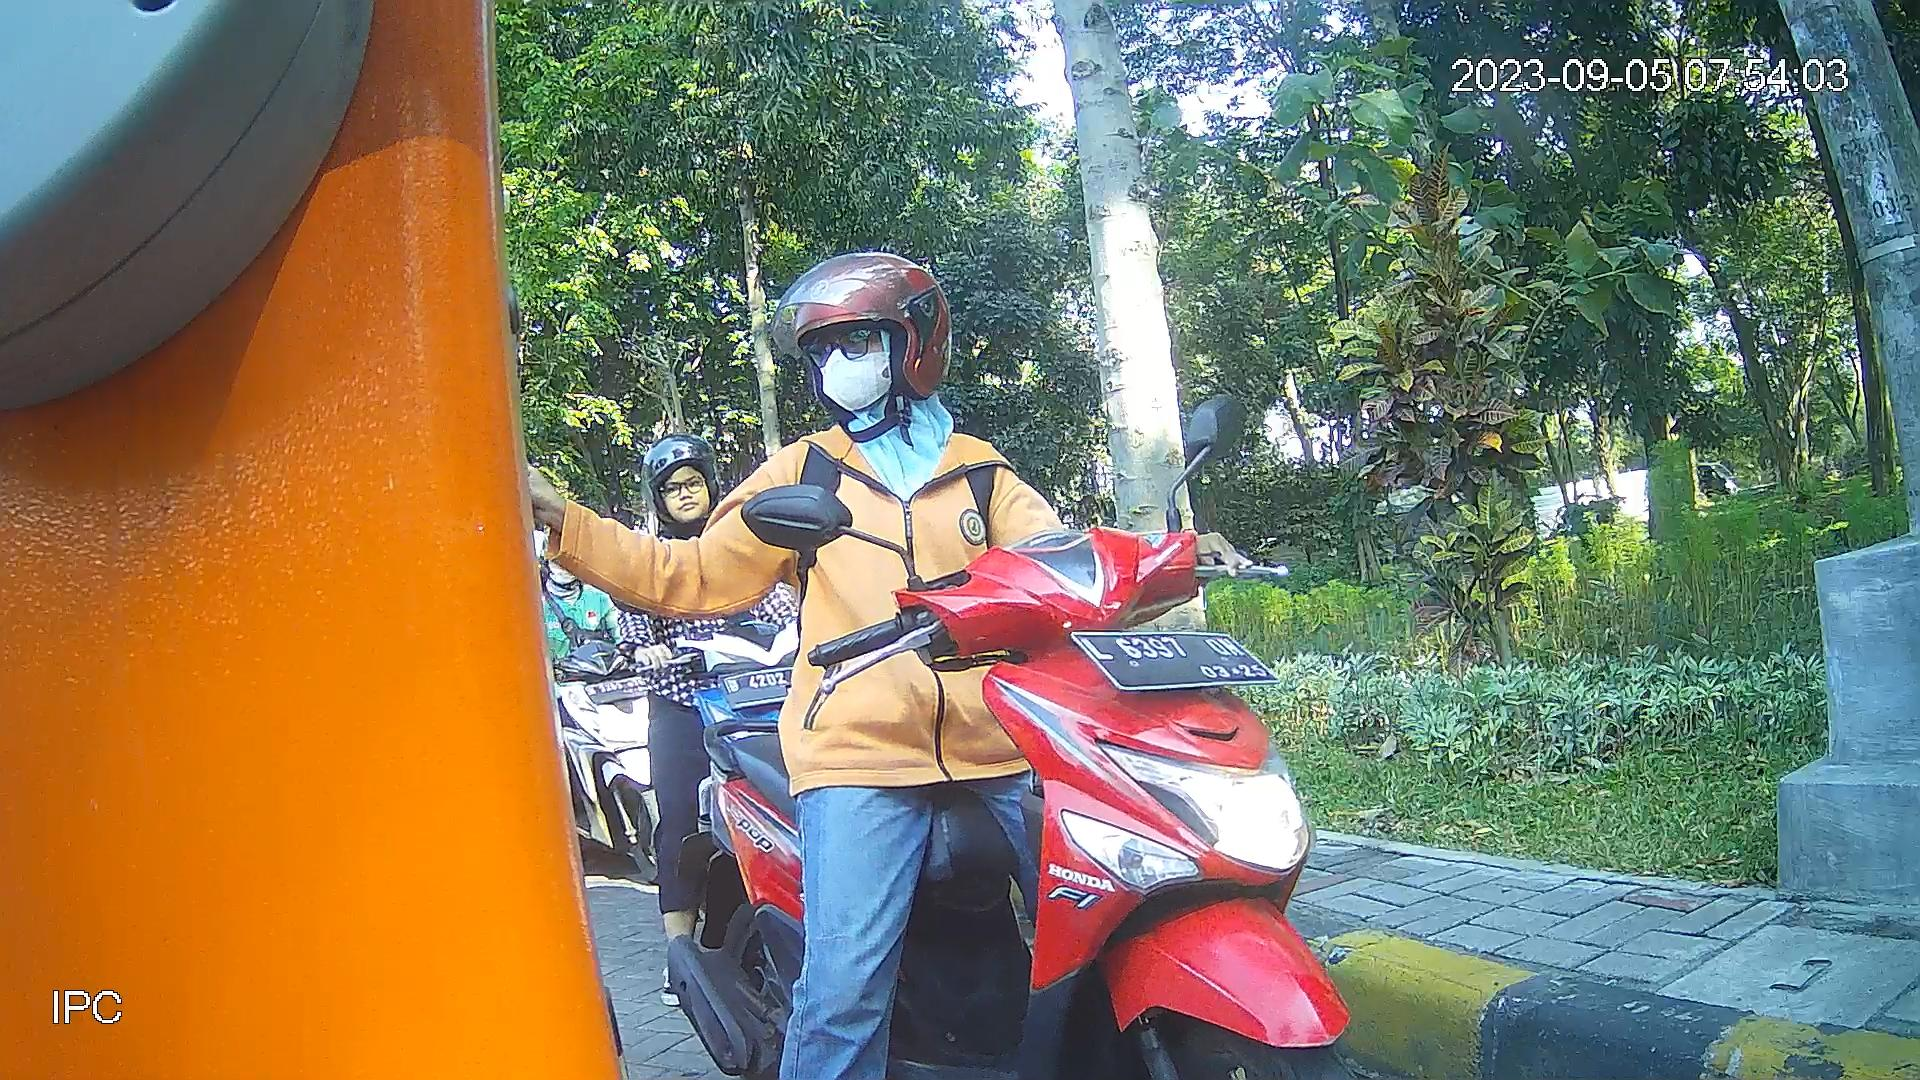plat: (1065, 632, 1284, 690)
